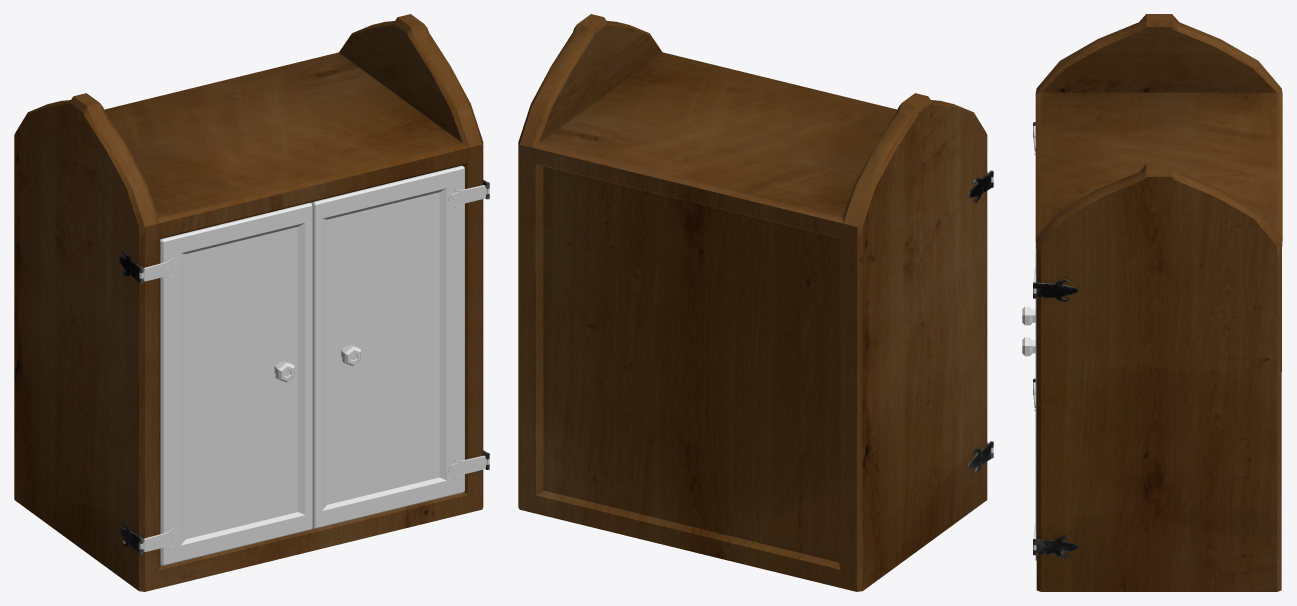
File: Cabinet.fbx
The picture shows the model from 3 angles, left to right: view 1: azimuth 30°, elevation 25°; view 2: azimuth 150°, elevation 25°; view 3: azimuth 270°, elevation 25°; orthographic projection. The views are drawn at different scales.
Visible parts, largest first — view 1: closet.001, closet door left.001, closet door right.001; view 2: closet.001; view 3: closet.001, closet door left.001, closet door right.001.
Part boxes in pixels (x1,y1,x2,y2): closet.001: (14, 14, 489, 591); closet door left.001: (311, 165, 489, 528); closet door right.001: (139, 202, 312, 565); closet.001: (518, 14, 993, 591); closet.001: (1033, 14, 1282, 591); closet door left.001: (1022, 242, 1036, 560); closet door right.001: (1022, 125, 1035, 410).
Bounding box in the file's own units: 54.02 × 65.47 × 36.77.
